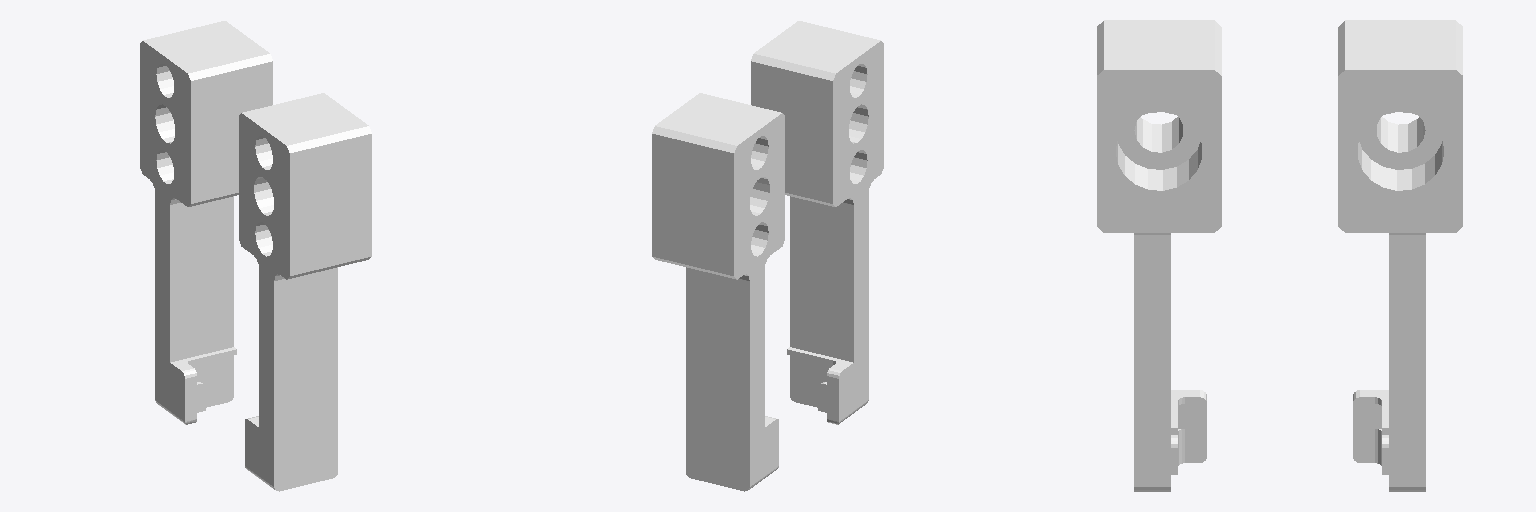
URDF robot description (XDZX_JZ):
<?xml version="1.0" encoding="utf-8"?>
<!-- This URDF was automatically created by SolidWorks to URDF Exporter! Originally created by [author] ([email redacted]) 
     Commit Version: 1.6.0-4-g7f85cfe  Build Version: 1.6.7995.38578
     For more information, please see http://wiki.ros.org/sw_urdf_exporter -->
<robot
  name="XDZX_JZ">
  <link
    name="base_link">
    <inertial>
      <origin
        xyz="-0.0343602388115351 -0.0135600432262813 -0.0121827005861681"
        rpy="0 0 0" />
      <mass
        value="0.150138292938201" />
      <inertia
        ixx="4.28065249904876E-05"
        ixy="2.7889980867191E-06"
        ixz="-9.95773981317376E-08"
        iyy="7.08193033845564E-05"
        iyz="1.64675674139304E-07"
        izz="9.7851511243247E-05" />
    </inertial>
    <visual>
      <origin
        xyz="0 0 0"
        rpy="0 0 0" />
      <geometry>
        <mesh
          filename="package://XDZX_JZ/meshes/base_link.STL" />
      </geometry>
      <material
        name="">
        <color
          rgba="0.752941176470588 0.752941176470588 0.752941176470588 1" />
      </material>
    </visual>
    <collision>
      <origin
        xyz="0 0 0"
        rpy="0 0 0" />
      <geometry>
        <mesh
          filename="package://XDZX_JZ/meshes/base_link.STL" />
      </geometry>
    </collision>
  </link>
  <link
    name="Empty_Link">
    <inertial>
      <origin
        xyz="0.0373154854307915 1.91767601864411E-09 -0.0227872043702891"
        rpy="0 0 0" />
      <mass
        value="0.00198317535499014" />
      <inertia
        ixx="1.81629650443448E-07"
        ixy="1.51929127721058E-15"
        ixz="-7.77363284072925E-09"
        iyy="1.80738094620205E-07"
        iyz="1.22029525686304E-14"
        izz="1.99456478280482E-08" />
    </inertial>
    <visual>
      <origin
        xyz="0 0 0"
        rpy="0 0 0" />
      <geometry>
        <mesh
          filename="package://XDZX_JZ/meshes/Empty_Link.STL" />
      </geometry>
      <material
        name="">
        <color
          rgba="1 1 1 1" />
      </material>
    </visual>
    <collision>
      <origin
        xyz="0 0 0"
        rpy="0 0 0" />
      <geometry>
        <mesh
          filename="package://XDZX_JZ/meshes/Empty_Link.STL" />
      </geometry>
    </collision>
  </link>
  <joint
    name="jz_joint"
    type="fixed">
    <origin
      xyz="0 0 0"
      rpy="0 0 0" />
    <parent
      link="base_link" />
    <child
      link="Empty_Link" />
    <axis
      xyz="0 0 0" />
  </joint>
</robot>

--- Render facts (derived) ---
3 views of the same robot in one strip: view 1: azimuth 30°, elevation 25°; view 2: azimuth 150°, elevation 25°; view 3: azimuth 270°, elevation 25° (orthographic).
Model XDZX_JZ with 2 links and 1 joints (1 fixed), rooted at base_link, posed all joints at 0.
Links seen in each view (by area): view 1: Empty_Link; view 2: Empty_Link; view 3: Empty_Link.
Link boxes in pixels (<box>): Empty_Link: <box>140,21,371,491</box>; Empty_Link: <box>652,21,883,491</box>; Empty_Link: <box>1097,20,1462,491</box>.
Size in the robot's own frame: 0.008 by 0.0252 by 0.033 metres.
Meshes: 2 distinct files referenced, 1 mesh visuals loaded (1 binary STL); not drawn: 1 (reference not matched to a file when rendering).